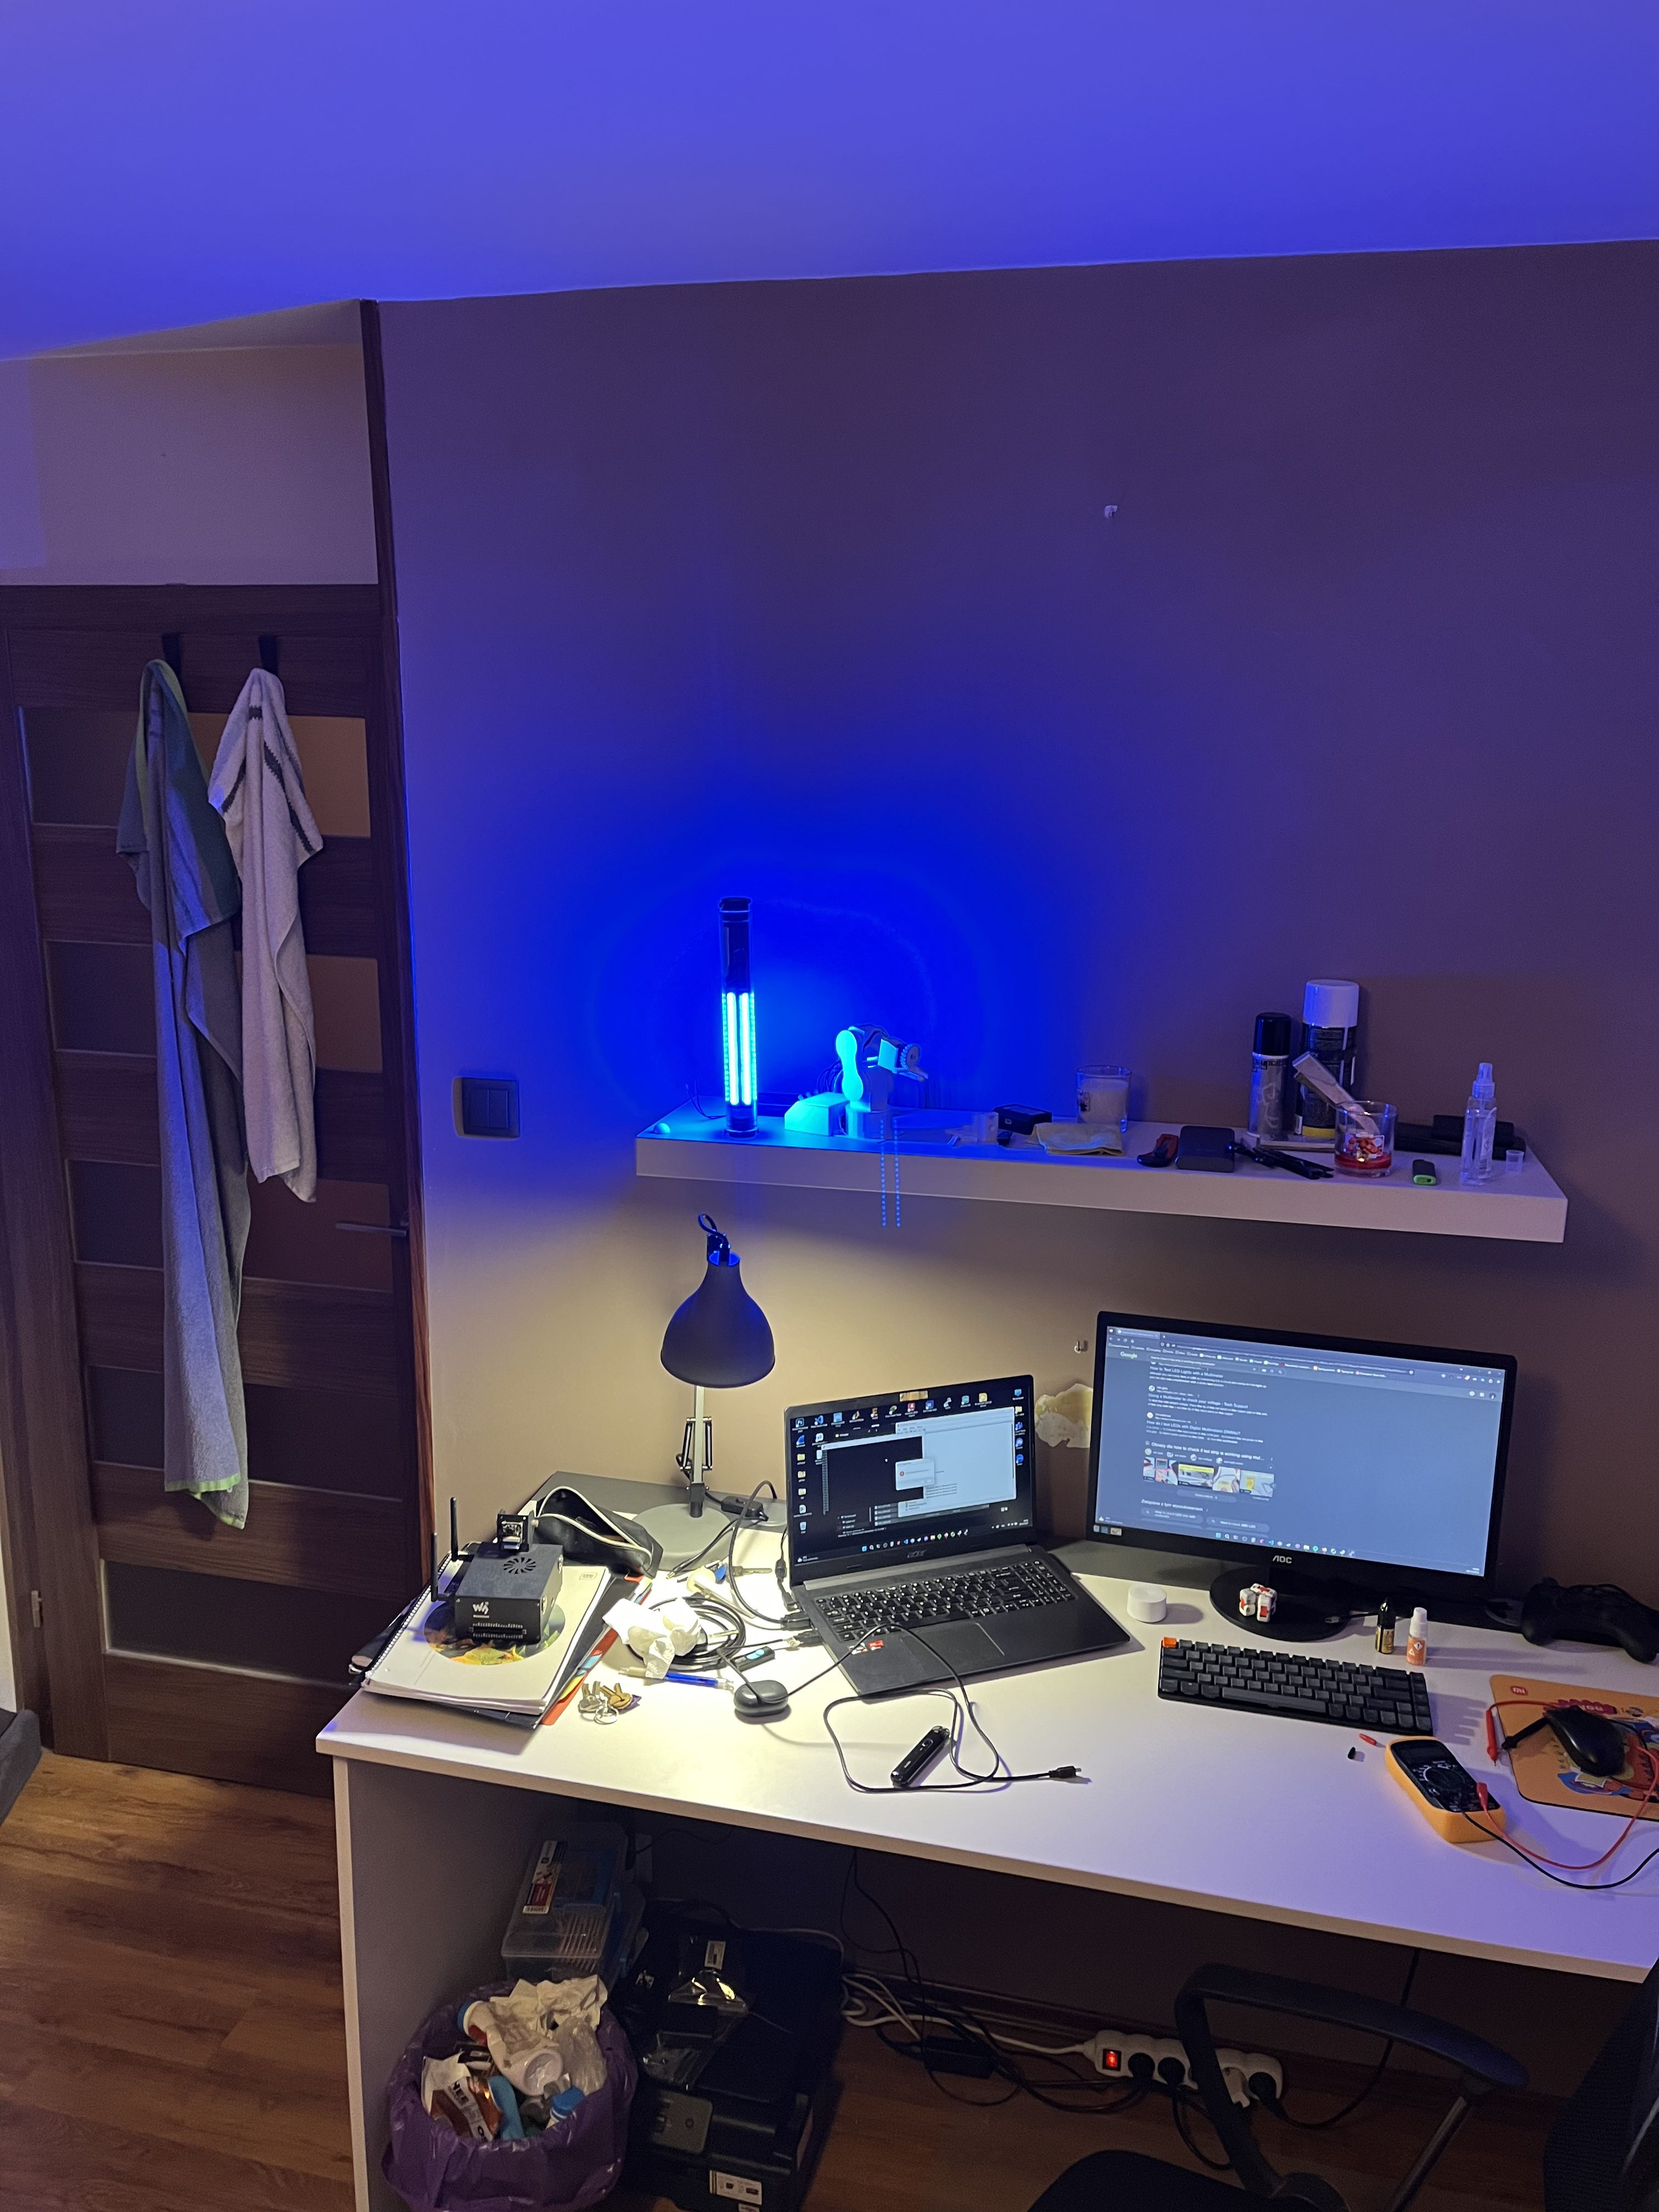blue: (718, 913, 756, 1136)
